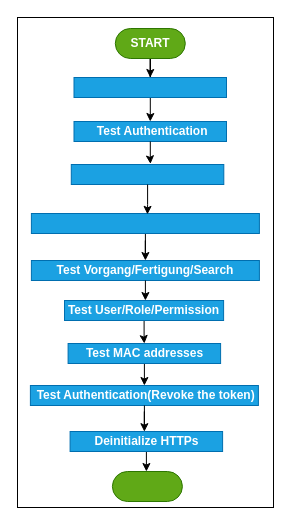
This 291x525 diagram has some shape labels left out. Here are the shapes that lost their labels. From the top down, the box of each, then its label:
(73, 76, 226, 98): Initialize HTTPs
(70, 164, 224, 184): Test Label
(30, 212, 259, 234): Test Product/Revision/Seriennummer
(111, 470, 182, 502): END
